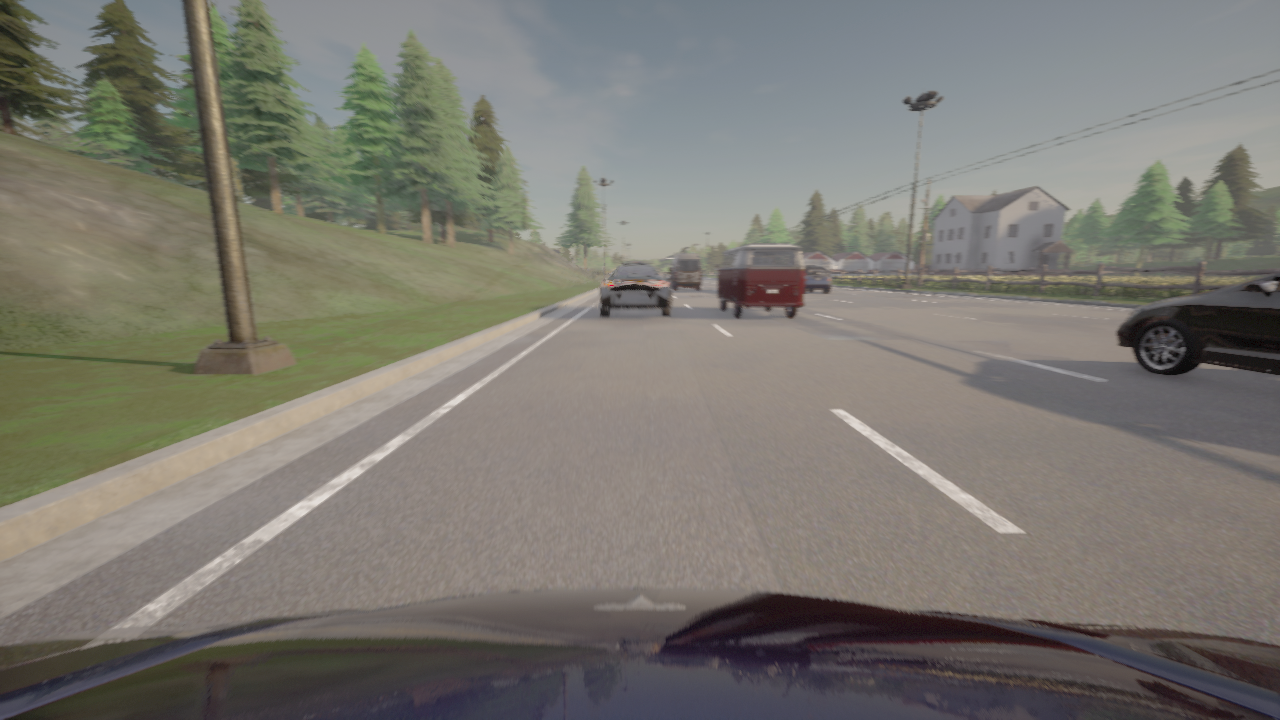cyclist: (0, 588, 1279, 719), (1116, 272, 1279, 375), (716, 243, 805, 316), (599, 261, 672, 316), (669, 254, 701, 288), (804, 266, 831, 292)
